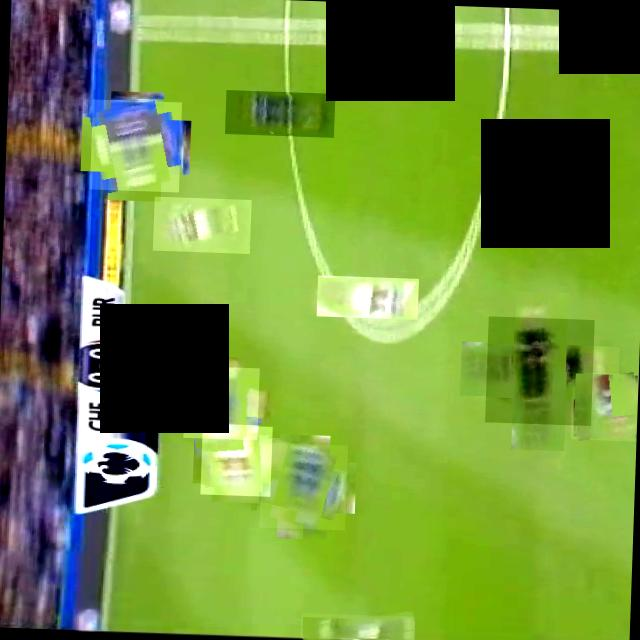referee: (484, 314, 594, 424)
soccer-player: (90, 98, 182, 191), (258, 441, 348, 529), (183, 364, 259, 439), (152, 195, 252, 252), (224, 88, 334, 136), (200, 422, 272, 494), (570, 371, 638, 440), (316, 274, 418, 318), (300, 611, 415, 640)
